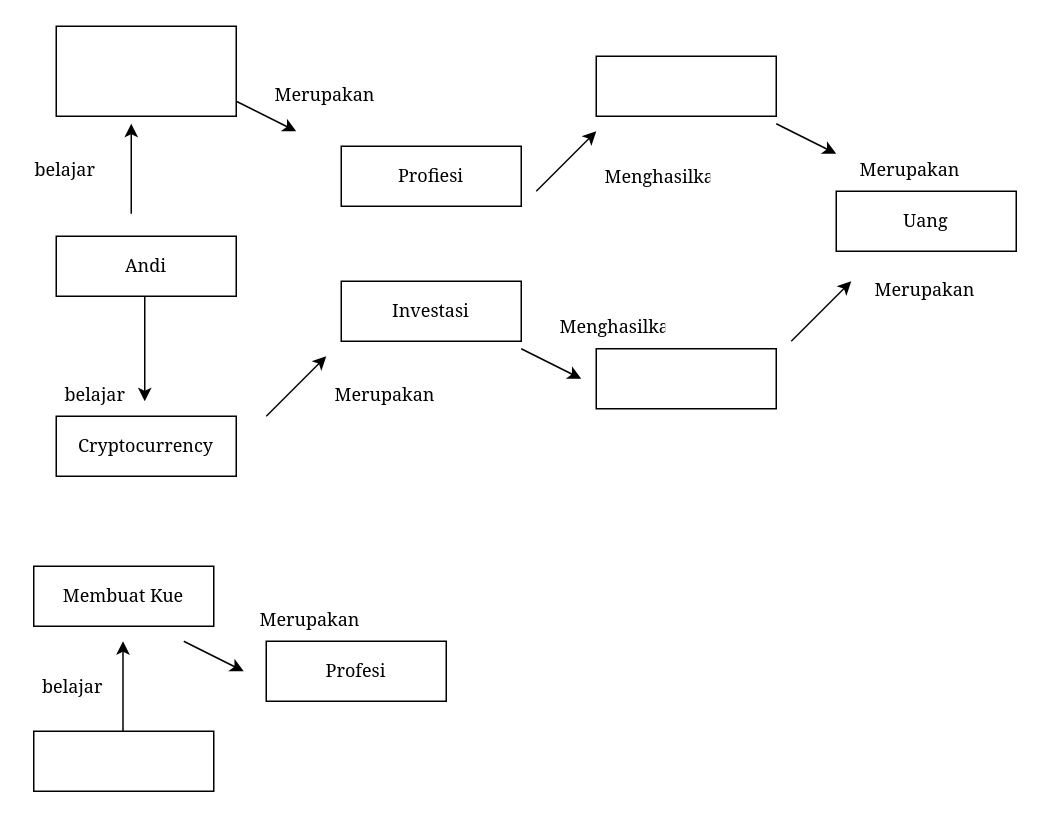
Some shapes in this 1043 by 818 pixel diagram are drawn without their labels. Here are the shapes that lost their labels. From the top down, the centre of each, then its label:
At point 145,70: "Programming".
At point 685,85: "Pendapatan Aktif".
At point 685,378: "Pendapatan Pasif".
At point 123,760: "Cindy".
